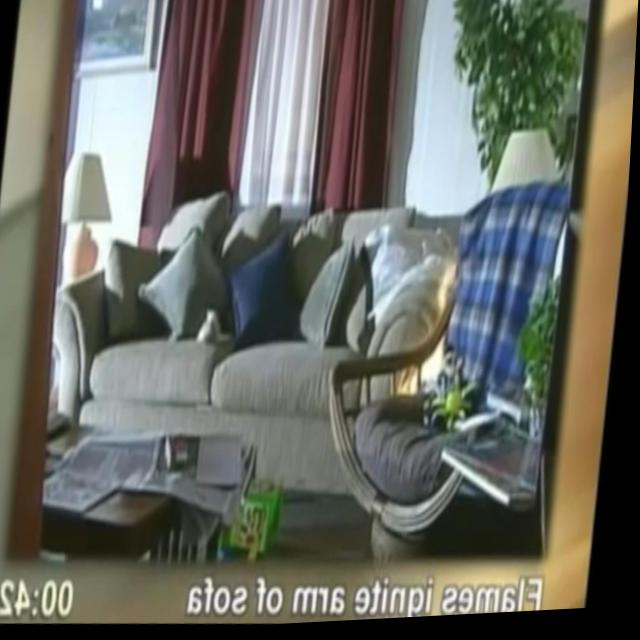fire: (399, 263, 457, 408)
